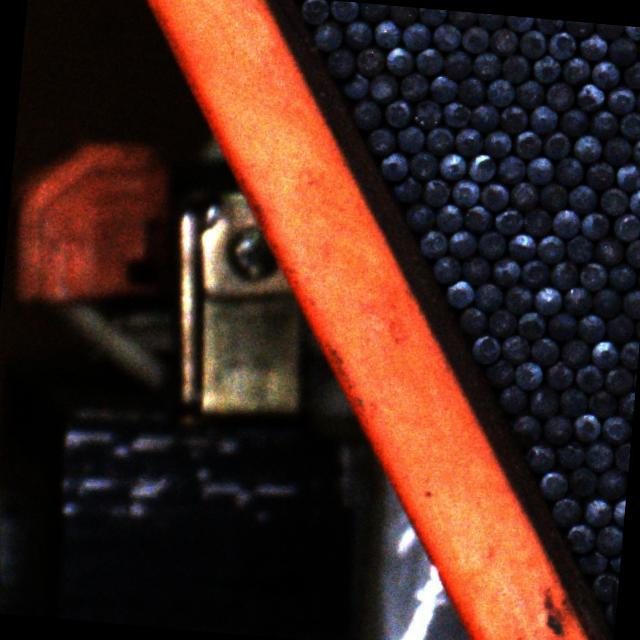tool: (596, 467, 628, 500), (528, 384, 559, 418), (509, 414, 540, 448), (312, 19, 342, 52), (324, 45, 354, 77), (514, 78, 544, 110), (588, 108, 618, 140), (354, 44, 384, 76), (600, 414, 632, 444), (408, 148, 438, 180), (470, 334, 500, 365), (443, 49, 473, 80), (516, 27, 546, 58), (566, 466, 596, 497), (582, 440, 612, 471), (498, 103, 528, 134), (564, 522, 595, 552), (558, 337, 588, 368), (542, 412, 572, 443), (594, 522, 623, 554), (341, 18, 370, 50), (500, 334, 530, 364), (512, 360, 542, 390), (414, 46, 444, 76), (560, 286, 590, 316), (499, 52, 529, 82), (542, 81, 572, 111), (550, 206, 580, 236), (546, 29, 576, 59), (552, 156, 582, 186), (450, 178, 480, 208), (366, 72, 396, 102), (502, 284, 532, 314), (589, 288, 619, 318), (566, 184, 596, 214), (430, 20, 460, 50), (536, 180, 566, 210), (546, 312, 576, 342), (434, 204, 464, 234), (476, 229, 506, 259), (558, 386, 588, 416), (482, 358, 512, 388), (530, 52, 560, 82), (602, 364, 632, 394), (551, 497, 581, 527), (462, 202, 492, 232), (524, 444, 554, 474), (574, 82, 604, 112), (592, 236, 622, 266), (351, 98, 381, 128), (580, 495, 610, 525), (340, 70, 370, 100), (412, 98, 442, 128), (605, 85, 635, 115), (468, 102, 498, 132), (364, 126, 394, 156), (554, 438, 584, 468), (472, 282, 501, 313), (591, 570, 619, 602), (417, 228, 446, 258), (548, 260, 577, 290), (453, 126, 482, 156), (471, 50, 500, 80), (483, 77, 512, 107), (432, 254, 461, 284), (572, 412, 601, 442), (528, 105, 557, 135), (598, 186, 627, 216), (588, 338, 617, 368), (400, 20, 429, 50), (479, 181, 508, 211), (542, 359, 572, 388), (489, 25, 518, 55), (511, 128, 540, 158), (515, 309, 544, 339), (578, 261, 607, 291), (465, 152, 494, 182), (586, 160, 615, 190), (459, 254, 488, 284), (385, 44, 414, 74), (428, 72, 457, 102), (574, 363, 604, 392), (524, 154, 553, 184), (540, 130, 569, 160), (390, 174, 420, 203), (398, 72, 427, 102), (586, 388, 616, 417), (379, 150, 408, 180), (558, 109, 588, 138), (506, 233, 536, 262), (447, 228, 476, 258), (425, 124, 454, 154), (602, 135, 631, 165), (372, 17, 401, 47), (498, 384, 527, 414), (481, 128, 510, 158), (490, 256, 519, 286), (578, 30, 608, 59), (576, 312, 604, 343), (538, 469, 566, 500), (608, 34, 636, 65), (508, 180, 536, 211), (394, 123, 423, 152), (438, 151, 467, 180), (561, 57, 590, 86), (571, 133, 600, 162), (461, 23, 490, 52), (420, 178, 449, 207), (534, 232, 562, 262), (532, 284, 560, 314), (522, 206, 550, 236), (486, 306, 514, 336), (530, 336, 558, 366), (446, 279, 474, 309), (520, 258, 548, 288), (383, 97, 411, 127), (456, 75, 484, 105), (604, 311, 632, 341), (406, 202, 434, 232), (458, 304, 486, 334), (440, 100, 470, 128), (592, 60, 620, 90), (496, 155, 524, 185), (608, 262, 636, 292), (579, 210, 608, 238), (564, 233, 592, 262), (492, 207, 521, 235), (576, 547, 606, 574), (613, 212, 640, 241), (613, 162, 640, 191), (616, 111, 640, 141), (299, 0, 328, 23), (618, 339, 640, 368), (328, 0, 357, 21), (620, 289, 640, 319), (358, 2, 387, 22), (620, 59, 640, 88), (616, 390, 635, 420), (612, 442, 630, 472), (390, 5, 418, 24), (475, 12, 503, 30), (611, 494, 626, 526), (448, 10, 476, 27), (534, 18, 563, 34), (625, 238, 640, 268), (566, 20, 594, 36), (504, 15, 532, 31), (418, 8, 446, 24), (594, 23, 623, 37), (627, 187, 640, 216), (607, 552, 621, 574), (621, 25, 640, 40), (631, 136, 640, 166), (633, 314, 640, 341), (637, 264, 640, 292)
